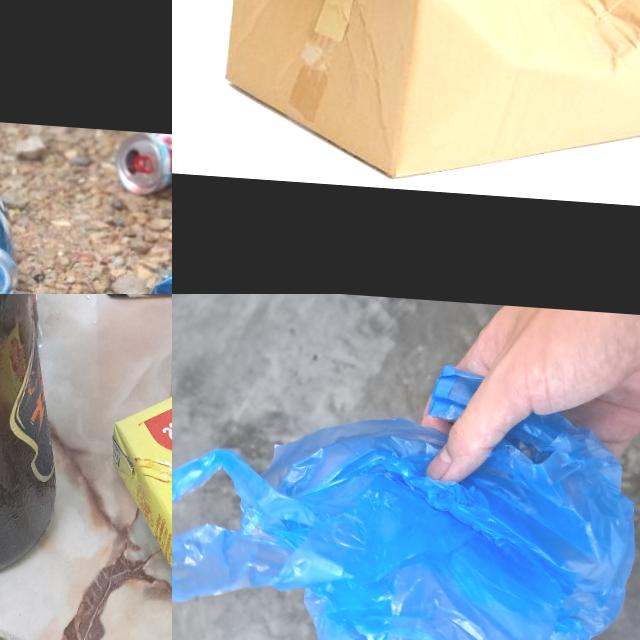aba de lata: (132, 154, 153, 176)
caixinha: (91, 364, 172, 640)
garrafa de vidro: (0, 294, 66, 585)
lata: (113, 130, 172, 198)
papelão: (217, 0, 640, 199)
sacola plástica: (172, 343, 640, 640)
